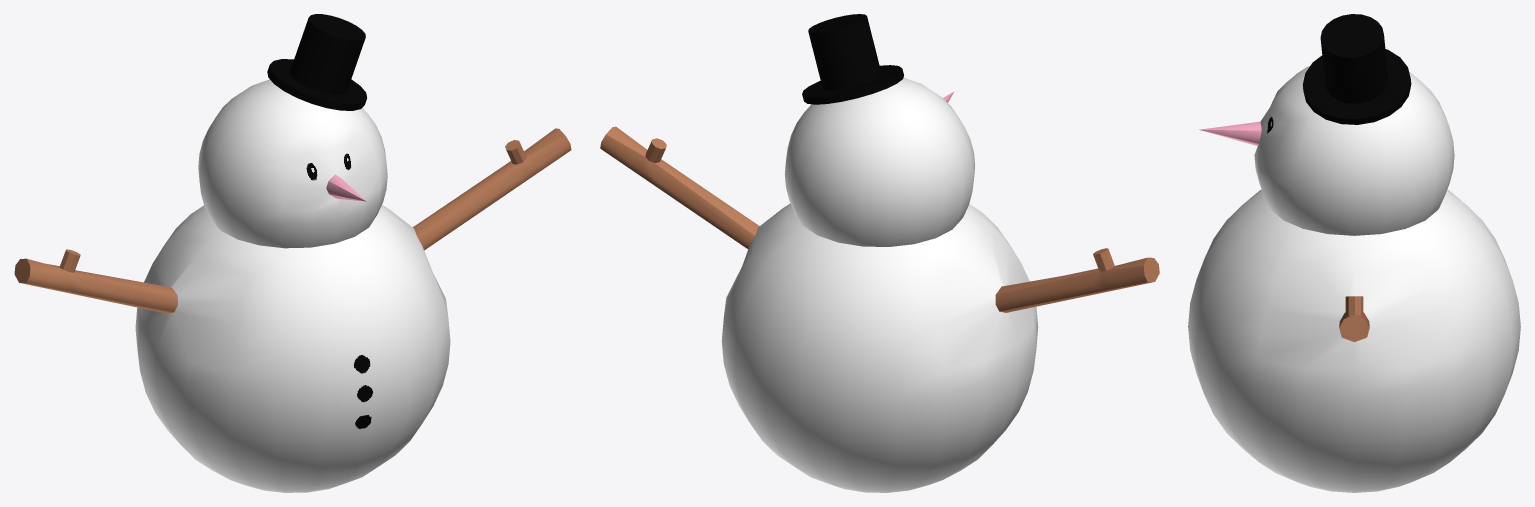
The model's file is snowman.fbx.
3 renders of one model, left to right at view 1: azimuth 30°, elevation 25°; view 2: azimuth 150°, elevation 25°; view 3: azimuth 270°, elevation 25°, orthographic. The views are drawn at different scales.
Visible parts, largest first — view 1: pSphere3; view 2: pSphere3; view 3: pSphere3.
Part boxes in pixels (box(x1,y1,x2,y2)): pSphere3: box(14, 14, 571, 492); pSphere3: box(600, 14, 1159, 492); pSphere3: box(1188, 14, 1520, 492).
Bounding box in the file's own units: 6.64 × 5.22 × 3.32.
